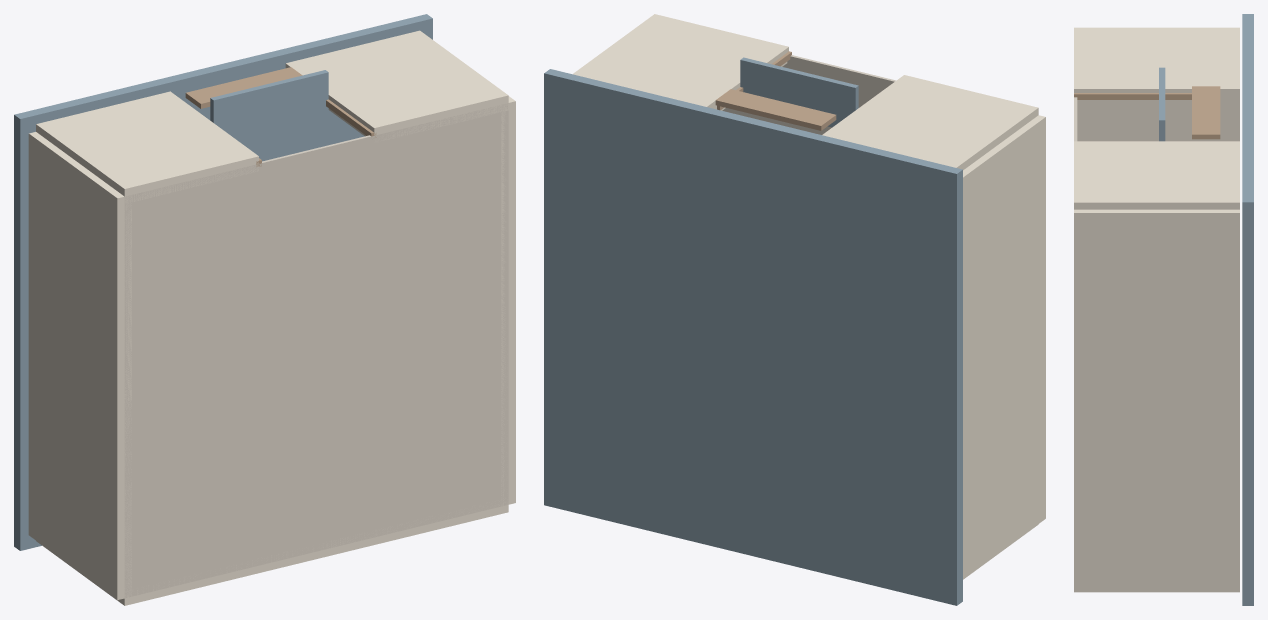
Rendered from building_room.glb.
3 views of the same model, side by side, from view 1: azimuth 30°, elevation 25°; view 2: azimuth 150°, elevation 25°; view 3: azimuth 270°, elevation 25° (orthographic). The views are drawn at different scales.
Parts seen in each view (by area): view 1: building_room_floor, building_room_w, building_room_roof, building_room_s_l, building_room_s_r, building_room_balcony, building_room_e, building_room_n, building_room_sign; view 2: building_room_roof, building_room_w, building_room_s_l, building_room_s_r, building_room_balcony, building_room_floor, building_room_sign; view 3: building_room_e, building_room_s_r, building_room_s_l, building_room_roof, building_room_w, building_room_sign, building_room_n, building_room_jamb_l, building_room_balcony.
Part boxes in pixels (x1,y1,x2,y2): building_room_floor: [124, 103, 508, 598]; building_room_w: [28, 132, 131, 599]; building_room_roof: [14, 14, 432, 550]; building_room_s_l: [36, 91, 258, 203]; building_room_s_r: [285, 30, 508, 141]; building_room_balcony: [210, 70, 328, 139]; building_room_e: [501, 96, 515, 506]; building_room_n: [36, 500, 508, 605]; building_room_sign: [185, 67, 302, 108]; building_room_roof: [544, 69, 962, 605]; building_room_w: [963, 115, 1045, 578]; building_room_s_l: [822, 75, 1038, 170]; building_room_s_r: [573, 14, 788, 110]; building_room_balcony: [740, 57, 858, 127]; building_room_floor: [722, 55, 895, 134]; building_room_sign: [715, 89, 836, 130]; building_room_e: [1074, 209, 1239, 588]; building_room_s_r: [1074, 141, 1239, 209]; building_room_s_l: [1074, 27, 1239, 102]; building_room_roof: [1242, 14, 1253, 605]; building_room_w: [1077, 103, 1239, 141]; building_room_sign: [1192, 86, 1220, 139]; building_room_n: [1074, 588, 1239, 592]; building_room_jamb_l: [1074, 93, 1191, 99]; building_room_balcony: [1159, 67, 1165, 141].
Size of the model in its own units: 8.6 by 8.9 by 3.47.
